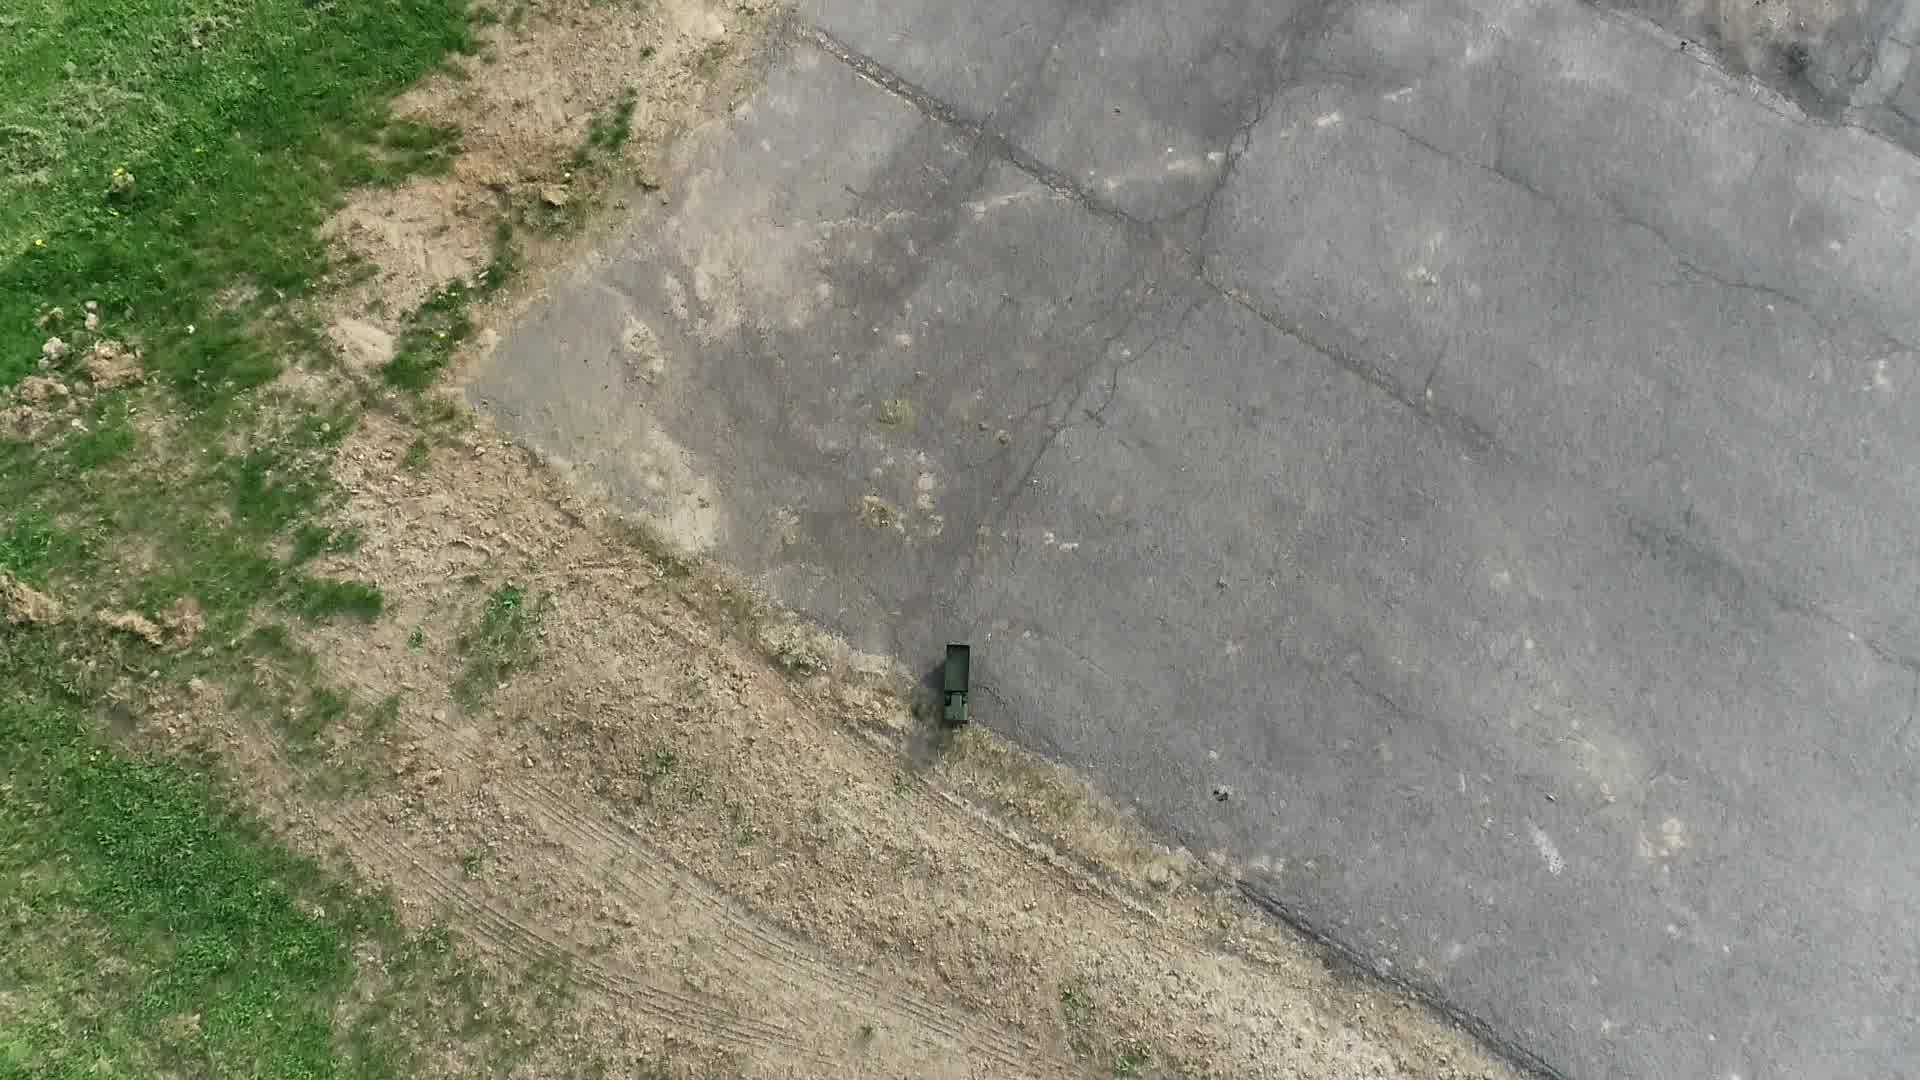transporter9: (934, 640, 976, 729)
